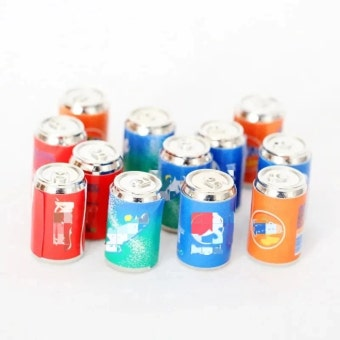paper: (28, 159, 90, 263), (178, 170, 238, 270), (106, 168, 162, 269), (252, 166, 307, 261), (71, 141, 122, 240), (122, 107, 172, 168), (239, 98, 277, 177), (28, 113, 86, 164), (65, 86, 109, 138), (260, 132, 313, 173), (208, 117, 245, 173), (157, 136, 205, 179)
